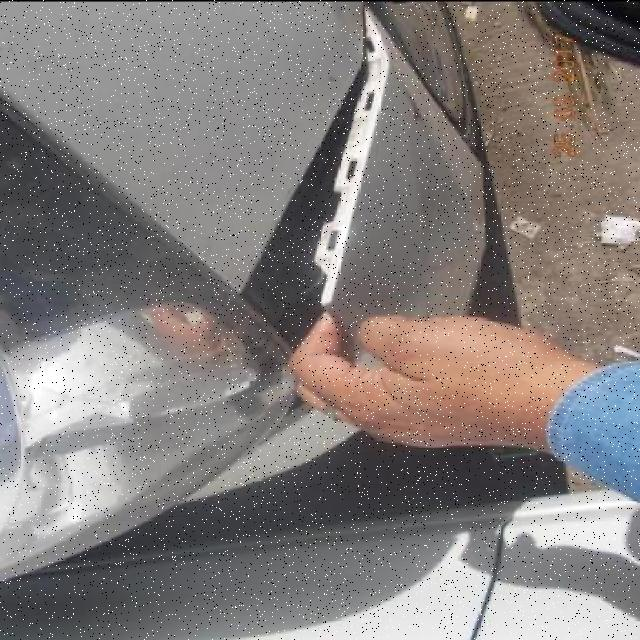damage: (240, 7, 390, 351)
